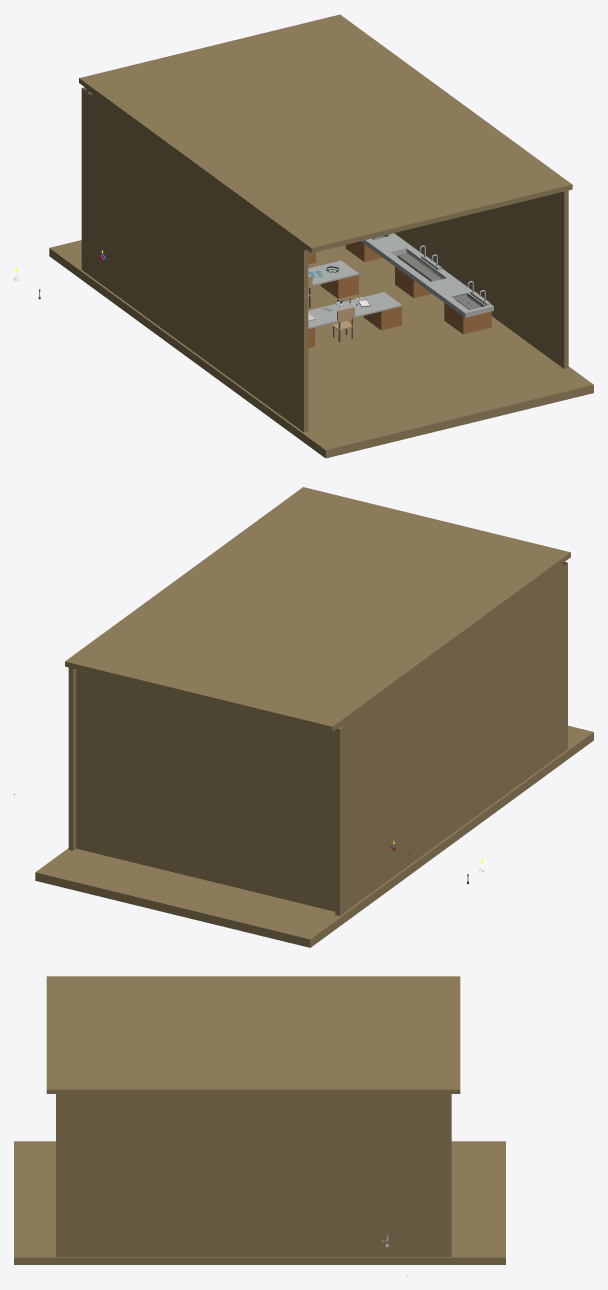
File: VirtualChemLab.glb
3 renders of one model, top to bottom at view 1: azimuth 30°, elevation 25°; view 2: azimuth 150°, elevation 25°; view 3: azimuth 270°, elevation 25°, orthographic. The views are drawn at different scales.
Parts seen in each view (by area): view 1: Plane.004, Plane.001, Plane.002, Cube.020, TableHead, Cube.019, Cube.005; view 2: Plane.004, Plane, Plane.001, Plane.002; view 3: Plane.001, Plane.004, Plane.002.
Part boxes in pixels (bbox=[...]): Plane.004: bbox=[79, 14, 572, 252]; Plane.001: bbox=[81, 87, 568, 432]; Plane.002: bbox=[49, 240, 593, 458]; Cube.020: bbox=[361, 233, 493, 317]; TableHead: bbox=[308, 260, 401, 329]; Cube.019: bbox=[345, 241, 491, 334]; Cube.005: bbox=[308, 251, 401, 348]; Plane.004: bbox=[65, 487, 570, 731]; Plane: bbox=[76, 669, 342, 911]; Plane.001: bbox=[68, 562, 567, 915]; Plane.002: bbox=[35, 725, 593, 947]; Plane.001: bbox=[56, 1094, 451, 1256]; Plane.004: bbox=[46, 976, 460, 1093]; Plane.002: bbox=[14, 1141, 505, 1264].
Bounding box in the file's own units: 245 × 103 × 310.
